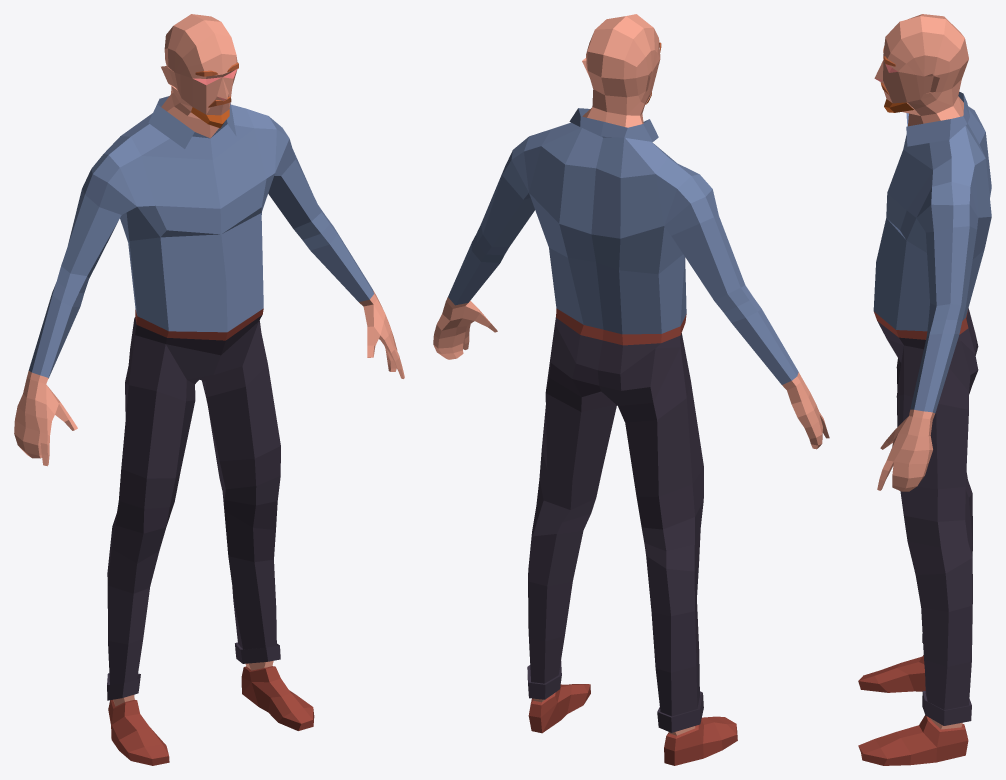
File: Sindaco.fbx
3 renders of one model, left to right at view 1: azimuth 30°, elevation 25°; view 2: azimuth 150°, elevation 25°; view 3: azimuth 270°, elevation 25°, orthographic.
Visible parts, largest first — view 1: Padre; view 2: Padre; view 3: Padre.
Boxes of the visible parts, x1,y1,x2,y2 form: Padre: (14, 14, 404, 765); Padre: (433, 14, 829, 765); Padre: (858, 14, 991, 765).
Size of the model in its own units: 196 by 350 by 60.05.
